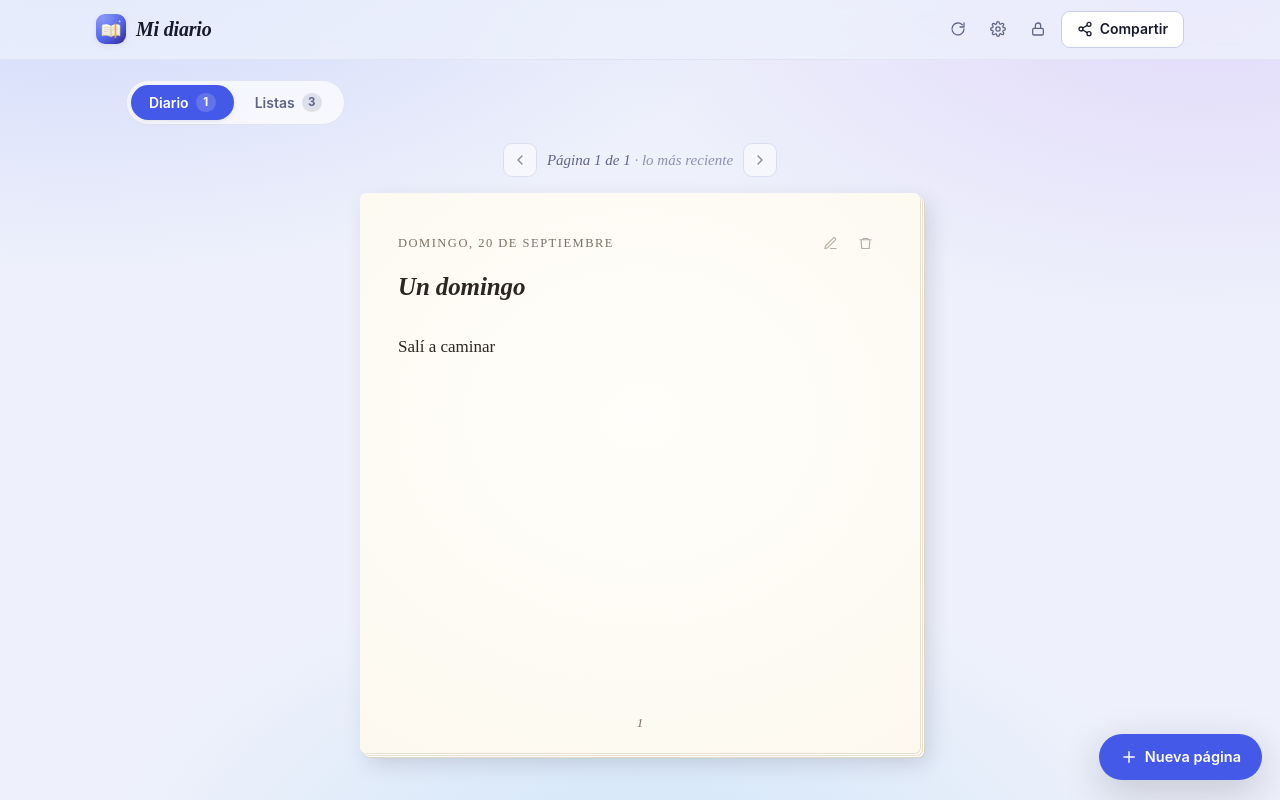
Test: con sesión › escribir una página la agrega y el libro la muestra primero
Expected: the heading "Un domingo" is shown, [398, 273, 525, 300]
Step 1. Click the button "Nueva página" → (1180, 757), box [1099, 734, 1262, 780]
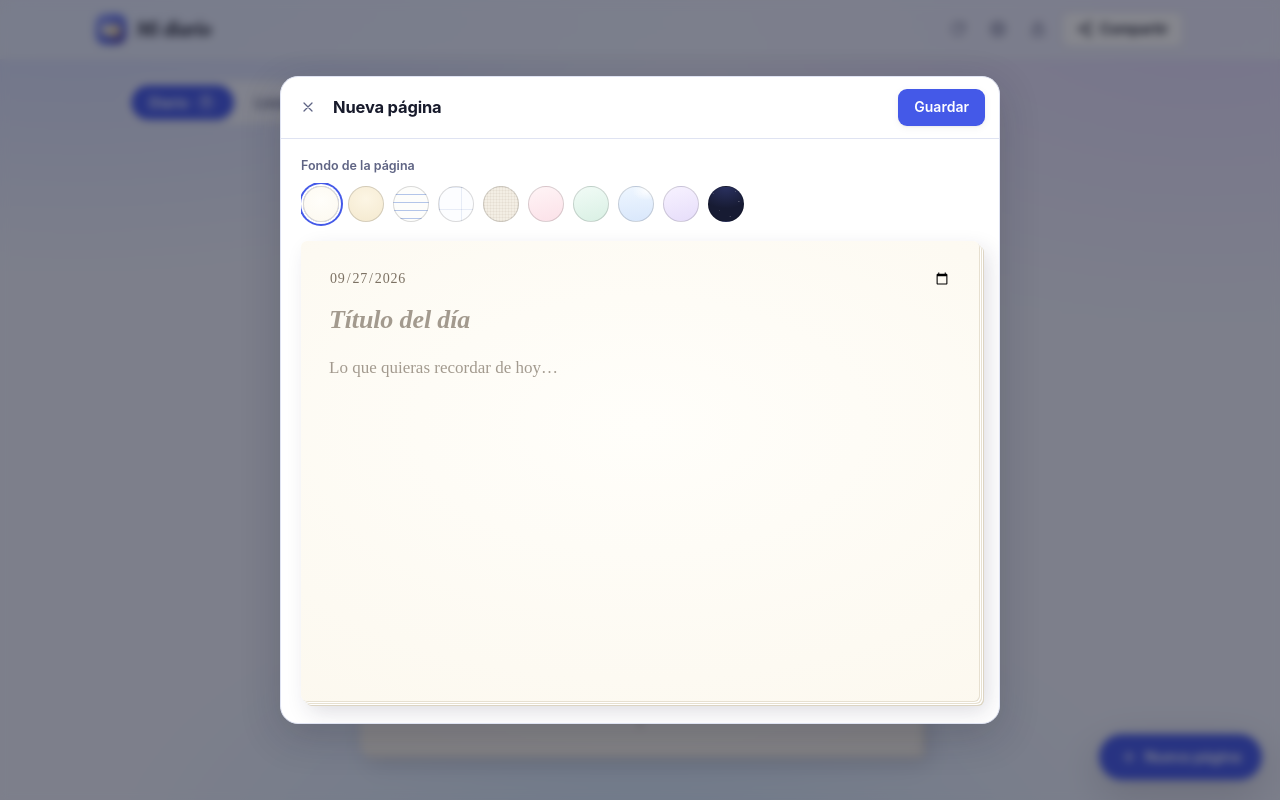
Step 2. Type "Hoy" into the field labelled "Título" → (640, 320), box [329, 304, 951, 336]
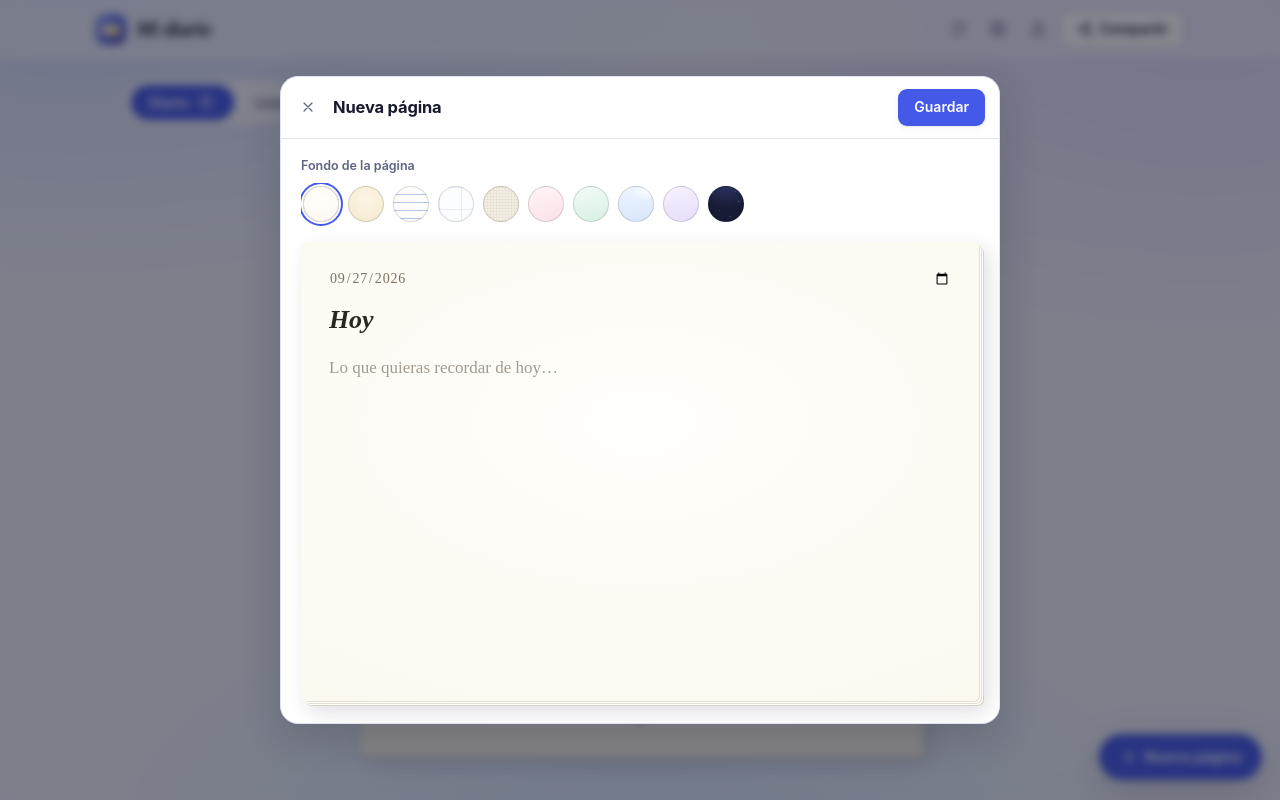
Step 3. Click the radio button named "Lavanda" → (681, 204), box [663, 186, 699, 222]
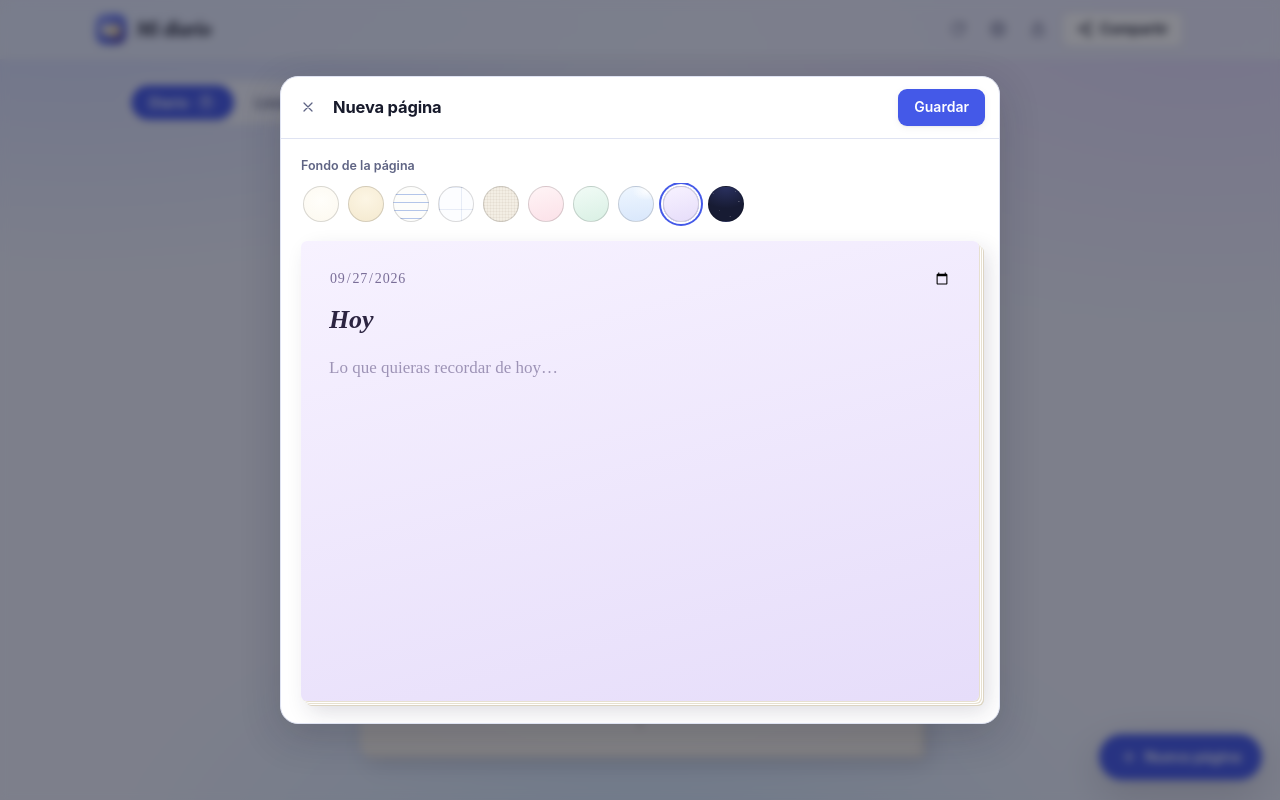
Step 4. Click the button "Guardar" → (942, 107), box [898, 89, 985, 126]
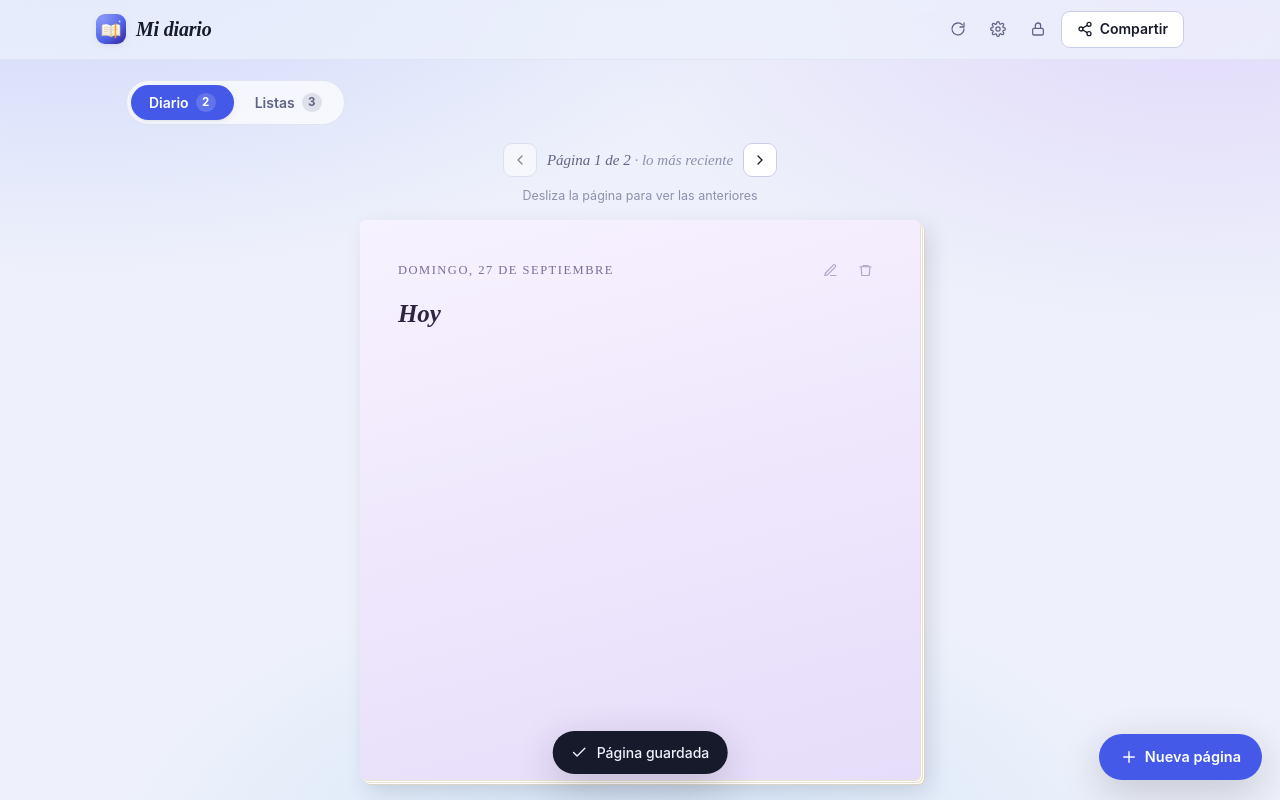
Now the text "Página guardada" is shown, box [553, 731, 727, 774]
Now the heading "Hoy" is shown, box [398, 300, 441, 326]
